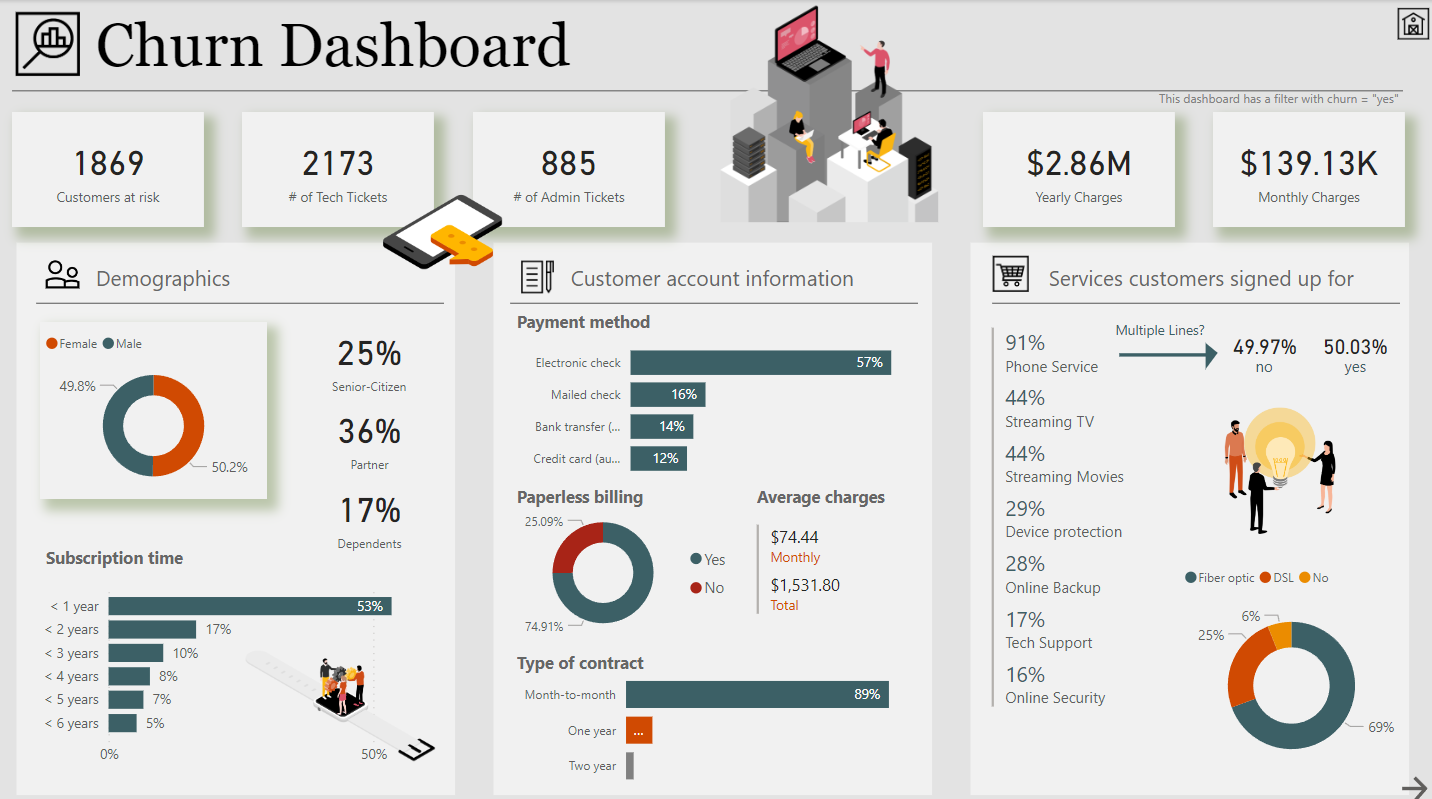

The dashboard page shown, as its layout file describes it:
{"tool":"powerbi","page":{"name":"Churn","canvas":[1280,720],"ordinal":1},"visuals":[{"type":"textbox","box":[87.7,4.9,1173.8,75],"z":0},{"type":"basicShape","box":[8.7,60.7,1253,40.5],"z":1000},{"type":"basicShape","box":[18.3,210,396.8,499.9],"z":2000},{"type":"card","fields":{"Values":["CountNonNull(churn.customerID)"]},"box":[18.5,99.4,170,102.3],"z":3000},{"type":"basicShape","box":[441.6,210,396.8,499.9],"z":4000},{"type":"basicShape","box":[864.9,210,396.8,499.9],"z":5000},{"type":"textbox","box":[508.5,228.6,314.9,35.6],"z":6000},{"type":"basicShape","box":[450.7,248.9,381.4,39.5],"z":7000},{"type":"image","box":[461.3,226.3,47.2,39.5],"z":8000},{"type":"textbox","box":[932.7,228.6,314.9,35.6],"z":9000},{"type":"basicShape","box":[877.4,248.9,381.4,39.5],"z":10000},{"type":"textbox","box":[88,228.6,314.9,35.6],"z":11000},{"type":"basicShape","box":[30.2,248.9,381.4,39.5],"z":12000},{"type":"image","box":[883.2,220.6,42.4,43.3],"z":13000},{"type":"image","box":[43.3,220.6,40.5,44.3],"z":14000},{"type":"donutChart","fields":{"Category":["churn.gender"],"Y":["CountNonNull(churn.gender)"]},"box":[43.8,286,201.3,156.6],"z":15000},{"type":"card","fields":{"Values":["churn.SeniorCitizen in %"]},"box":[271.4,268.7,128.1,100.2],"z":16000},{"type":"card","fields":{"Values":["churn.Partner in %"]},"box":[271.4,338.1,128.4,100.2],"z":17000},{"type":"card","fields":{"Values":["churn.Dependents in %"]},"box":[271.4,407.5,128.4,100.2],"z":18000},{"type":"clusteredBarChart","fields":{"Category":["churn.Contract"],"Y":["CountNonNull(churn.Contract)"]},"box":[461.3,577.9,370.8,131.9],"z":19000},{"type":"clusteredBarChart","fields":{"Y":["CountNonNull(churn.PaymentMethod)"],"Category":["churn.PaymentMethod"]},"box":[461.3,286,370.8,148.3],"z":20000},{"type":"textbox","box":[461.3,269.7,314.9,35.6],"z":21000},{"type":"textbox","box":[461.3,424.7,204.2,35.6],"z":22000},{"type":"donutChart","fields":{"Category":["churn.PaperlessBilling"],"Y":["CountNonNull(churn.PaperlessBilling)"]},"box":[461.3,438.2,204.2,139.7],"z":23000},{"type":"multiRowCard","fields":{"Values":["Avg(churn.MonthlyCharges)","Avg(churn.TotalCharges)"]},"box":[674.2,460.4,149.3,95.3],"z":24000},{"type":"textbox","box":[461.3,572.1,314.9,35.6],"z":25000},{"type":"donutChart","fields":{"Category":["churn.InternetService"],"Y":["Divide(CountNonNull(churn.InternetService), ScopedEval(CountNonNull(churn.InternetService), []))"]},"box":[1053.4,493.1,199.4,202.3],"z":26000},{"type":"card","fields":{"Values":["churn.Multiple Lines in %"]},"box":[1172.8,276.4,72.2,62.6],"z":27000},{"type":"card","fields":{"Values":["churn.Multiple lines no in %"]},"box":[1093.1,276.4,72.2,61.6],"z":28000},{"type":"textbox","box":[971.7,278.2,129.4,27.2],"z":29000},{"type":"textbox","box":[1092.2,311,73.2,35.6],"z":30000},{"type":"textbox","box":[1172.8,311,73.2,35.6],"z":31000},{"type":"textbox","box":[674.2,424.7,148.3,35.6],"z":32000},{"type":"multiRowCard","fields":{"Values":["churn.Phone Service in %","churn.Streaming TV in %","churn.Streaming Movies in %","churn.Device protection in %","churn.Online Bacup in %","churn.Tech Support in %","churn.Online Sec. in %"]},"box":[882.2,286,165.3,414.3],"z":33000},{"type":"basicShape","box":[990.2,300.5,97.3,28.2],"z":34000},{"type":"basicShape","box":[1063.1,296.7,37.9,32.1],"z":35000},{"type":"clusteredBarChart","fields":{"Y":["CountNonNull(churn.Churn)"],"Category":["churn.Loyalty"]},"box":[37,507.7,365.7,179],"z":36000},{"type":"textbox","box":[43.8,478.5,314.2,35],"z":37000},{"type":"image","box":[1048.2,356.5,190.9,121.8],"z":38000},{"type":"actionButton","box":[1246.1,680.1,31.6,39.5],"z":39000},{"type":"image","box":[16.6,4.9,67.2,68.2],"z":40000},{"type":"card","fields":{"Values":["Sum(churn.MonthlyCharges)"]},"box":[1083.9,99.4,170,102.3],"z":41000},{"type":"image","box":[634.9,0,216.9,202.2],"z":42000},{"type":"image","box":[221.1,556.2,178.3,139.3],"z":43000},{"type":"card","fields":{"Values":["Sum(churn.numTechTickets)"]},"box":[222.8,99.4,170,102.3],"z":44000},{"type":"card","fields":{"Values":["Sum(churn.numAdminTickets)"]},"box":[427.1,99.4,170,102.3],"z":45000},{"type":"card","fields":{"Values":["Sum(churn.TotalCharges)"]},"box":[879.7,99.4,170,102.3],"z":46000},{"type":"textbox","box":[897,72.3,355.9,30.5],"z":47000},{"type":"image","box":[341.9,151,115.9,108.1],"z":48000},{"type":"image","box":[1242,0,38,42.9],"z":49000}]}

Visuals, with their boxes in screenshot pixels (x1, y1, x2, y2), scaled from the page's 1280x720 canvas onto the 1432x799 screenshot:
textbox: x1=98, y1=5, x2=1411, y2=89
basicShape: x1=10, y1=67, x2=1412, y2=112
basicShape: x1=20, y1=233, x2=464, y2=788
card - CountNonNull(churn.customerID): x1=21, y1=110, x2=211, y2=224
basicShape: x1=494, y1=233, x2=938, y2=788
basicShape: x1=968, y1=233, x2=1412, y2=788
textbox: x1=569, y1=254, x2=921, y2=293
basicShape: x1=504, y1=276, x2=931, y2=320
image: x1=516, y1=251, x2=569, y2=295
textbox: x1=1043, y1=254, x2=1396, y2=293
basicShape: x1=982, y1=276, x2=1408, y2=320
textbox: x1=98, y1=254, x2=451, y2=293
basicShape: x1=34, y1=276, x2=460, y2=320
image: x1=988, y1=245, x2=1036, y2=293
image: x1=48, y1=245, x2=94, y2=294
donutChart - churn.gender x CountNonNull(churn.gender): x1=49, y1=317, x2=274, y2=491
card - churn.SeniorCitizen in %: x1=304, y1=298, x2=447, y2=409
card - churn.Partner in %: x1=304, y1=375, x2=447, y2=486
card - churn.Dependents in %: x1=304, y1=452, x2=447, y2=563
clusteredBarChart - churn.Contract x CountNonNull(churn.Contract): x1=516, y1=641, x2=931, y2=788
clusteredBarChart - CountNonNull(churn.PaymentMethod) x churn.PaymentMethod: x1=516, y1=317, x2=931, y2=482
textbox: x1=516, y1=299, x2=868, y2=339
textbox: x1=516, y1=471, x2=745, y2=511
donutChart - churn.PaperlessBilling x CountNonNull(churn.PaperlessBilling): x1=516, y1=486, x2=745, y2=641
multiRowCard - Avg(churn.MonthlyCharges) x Avg(churn.TotalCharges): x1=754, y1=511, x2=921, y2=617
textbox: x1=516, y1=635, x2=868, y2=674
donutChart - churn.InternetService x Divide(CountNonNull(churn.InternetService), ScopedEval(CountNonNull(churn.InternetService), [])): x1=1178, y1=547, x2=1402, y2=772
card - churn.Multiple Lines in %: x1=1312, y1=307, x2=1393, y2=376
card - churn.Multiple lines no in %: x1=1223, y1=307, x2=1304, y2=375
textbox: x1=1087, y1=309, x2=1232, y2=339
textbox: x1=1222, y1=345, x2=1304, y2=385
textbox: x1=1312, y1=345, x2=1394, y2=385
textbox: x1=754, y1=471, x2=920, y2=511
multiRowCard - churn.Phone Service in % x churn.Streaming TV in %: x1=987, y1=317, x2=1172, y2=777
basicShape: x1=1108, y1=333, x2=1217, y2=365
basicShape: x1=1189, y1=329, x2=1232, y2=365
clusteredBarChart - CountNonNull(churn.Churn) x churn.Loyalty: x1=41, y1=563, x2=451, y2=762
textbox: x1=49, y1=531, x2=401, y2=570
image: x1=1173, y1=396, x2=1386, y2=531
actionButton: x1=1394, y1=755, x2=1429, y2=798
image: x1=19, y1=5, x2=94, y2=81
card - Sum(churn.MonthlyCharges): x1=1213, y1=110, x2=1403, y2=224
image: x1=710, y1=0, x2=953, y2=224
image: x1=247, y1=617, x2=447, y2=772
card - Sum(churn.numTechTickets): x1=249, y1=110, x2=439, y2=224
card - Sum(churn.numAdminTickets): x1=478, y1=110, x2=668, y2=224
card - Sum(churn.TotalCharges): x1=984, y1=110, x2=1174, y2=224
textbox: x1=1004, y1=80, x2=1402, y2=114
image: x1=383, y1=168, x2=512, y2=288
image: x1=1389, y1=0, x2=1431, y2=48
